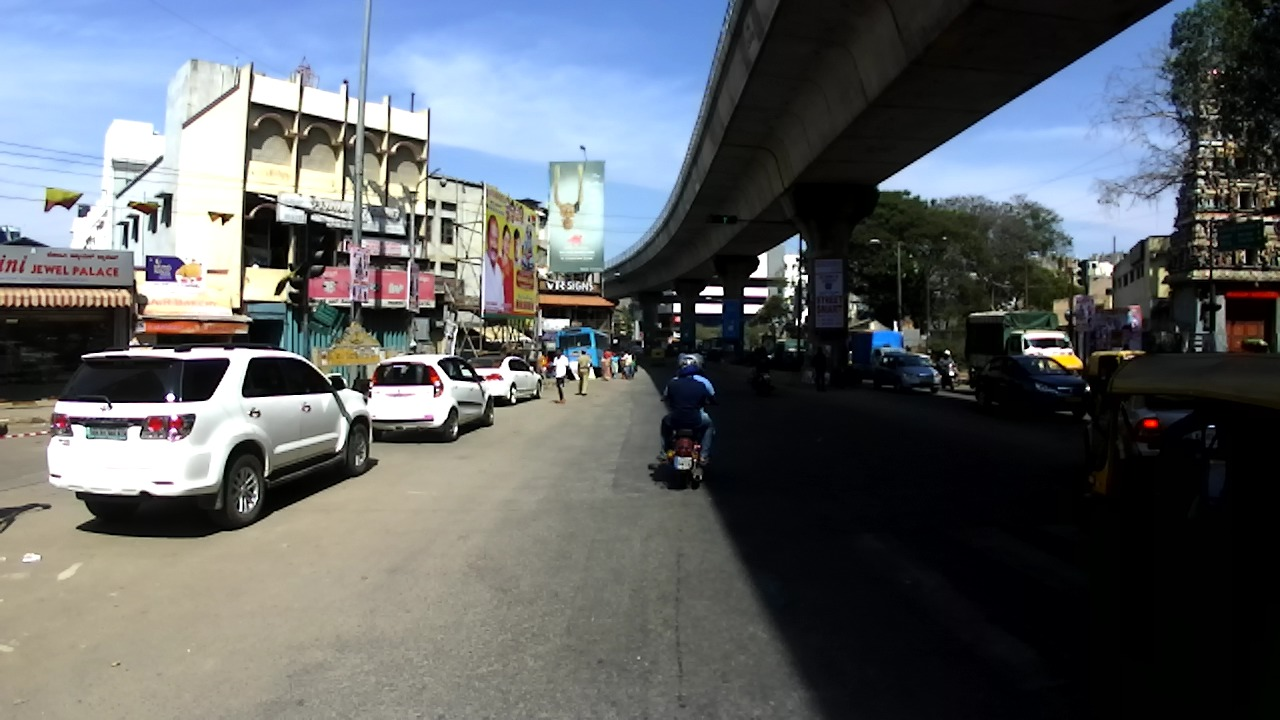autorickshaw: (1070, 351, 1280, 720), (1090, 349, 1146, 399)
bus: (558, 326, 612, 377)
car: (46, 342, 373, 529), (368, 354, 494, 443), (975, 353, 1090, 419), (466, 356, 542, 405), (875, 353, 941, 392), (630, 346, 644, 357)
motorcycle: (663, 397, 715, 486), (749, 364, 774, 394), (941, 361, 957, 390)
person: (552, 349, 570, 403), (809, 347, 830, 393), (576, 350, 592, 395), (601, 353, 612, 380), (539, 352, 548, 381), (627, 353, 636, 380), (611, 350, 619, 378), (621, 351, 630, 373), (619, 351, 625, 371), (631, 354, 638, 371), (606, 349, 613, 361)
rider: (657, 358, 714, 462), (664, 352, 717, 441), (752, 347, 770, 383), (937, 348, 955, 378), (1240, 337, 1256, 353), (1254, 338, 1268, 353), (906, 343, 911, 352)
traffic light: (310, 221, 329, 283), (285, 277, 305, 307), (708, 215, 737, 224)
truck: (966, 310, 1085, 395), (851, 329, 905, 379)
vehicle fallback: (650, 337, 678, 364), (776, 339, 805, 365), (699, 337, 722, 359), (615, 335, 631, 353), (668, 339, 680, 353)
